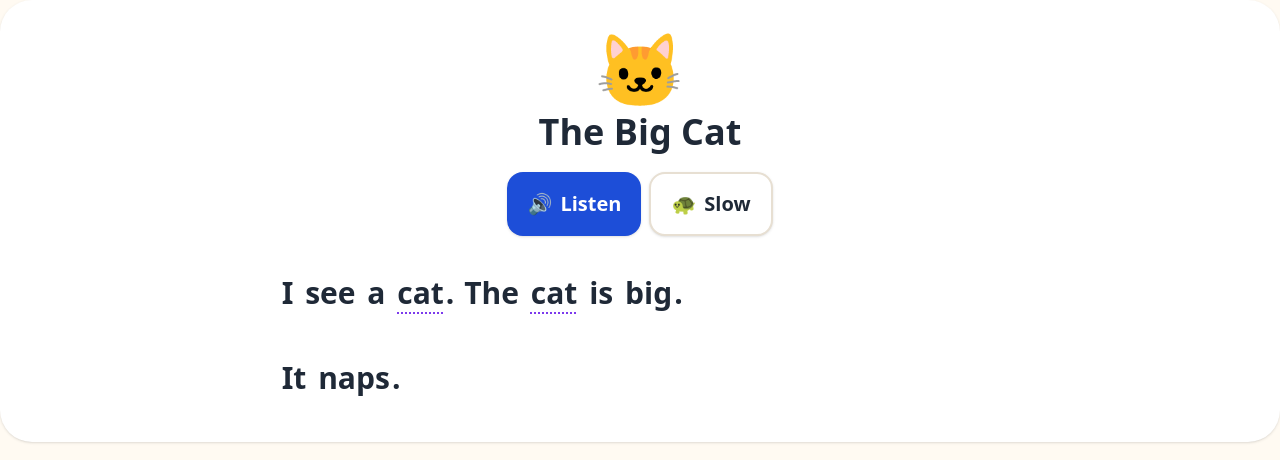
PassageView › a tapped word ends the reading: the buttons are ready to start again
Click the button "🔊 Listen".
click(574, 204)  # box x1=507 y1=172 x2=641 y2=236
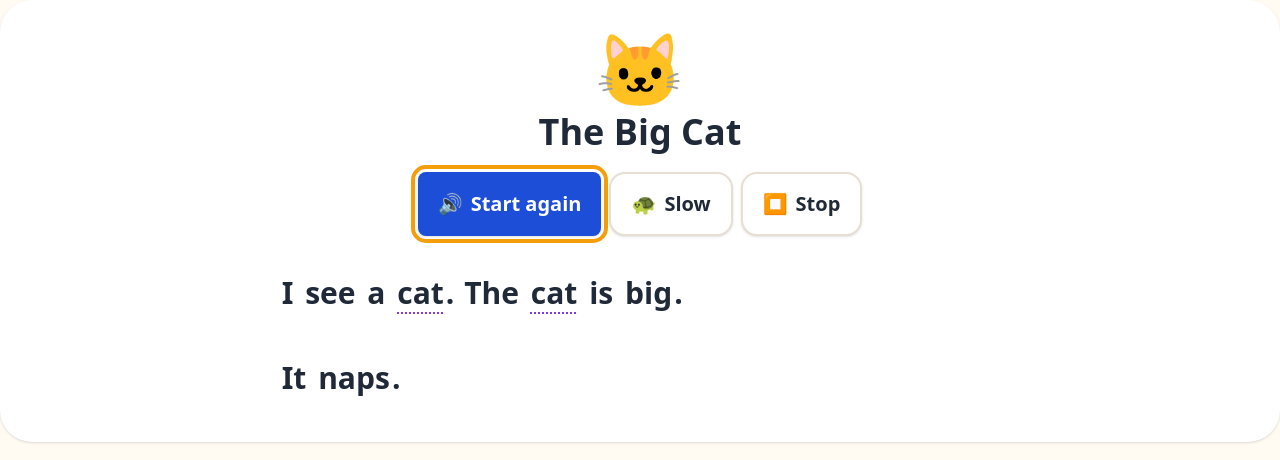
Click the button "big".
click(649, 292)  # box x1=623 y1=260 x2=674 y2=325
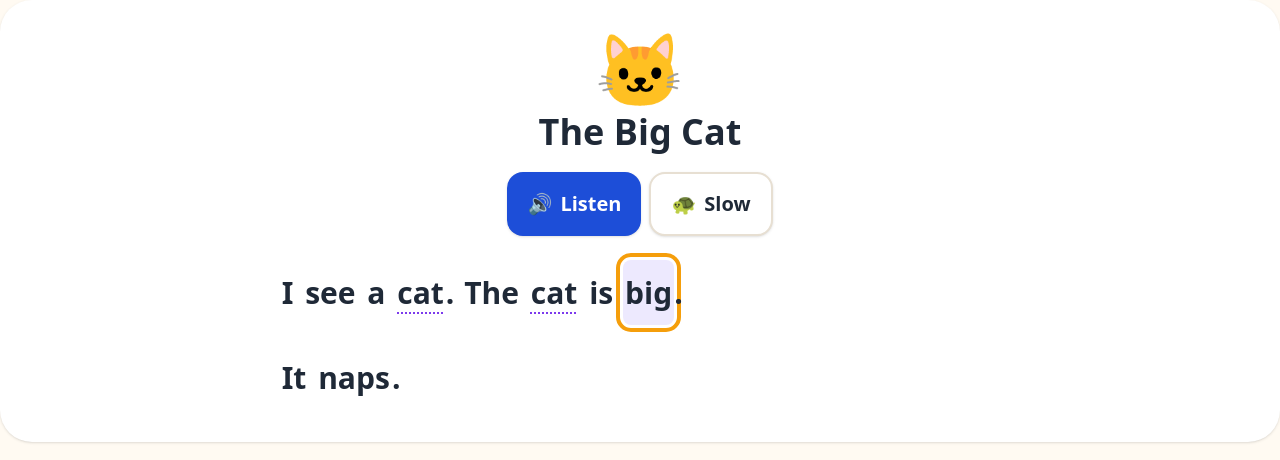
Expected: the button "🔊 Listen" is shown, x1=507 y1=172 x2=641 y2=236
